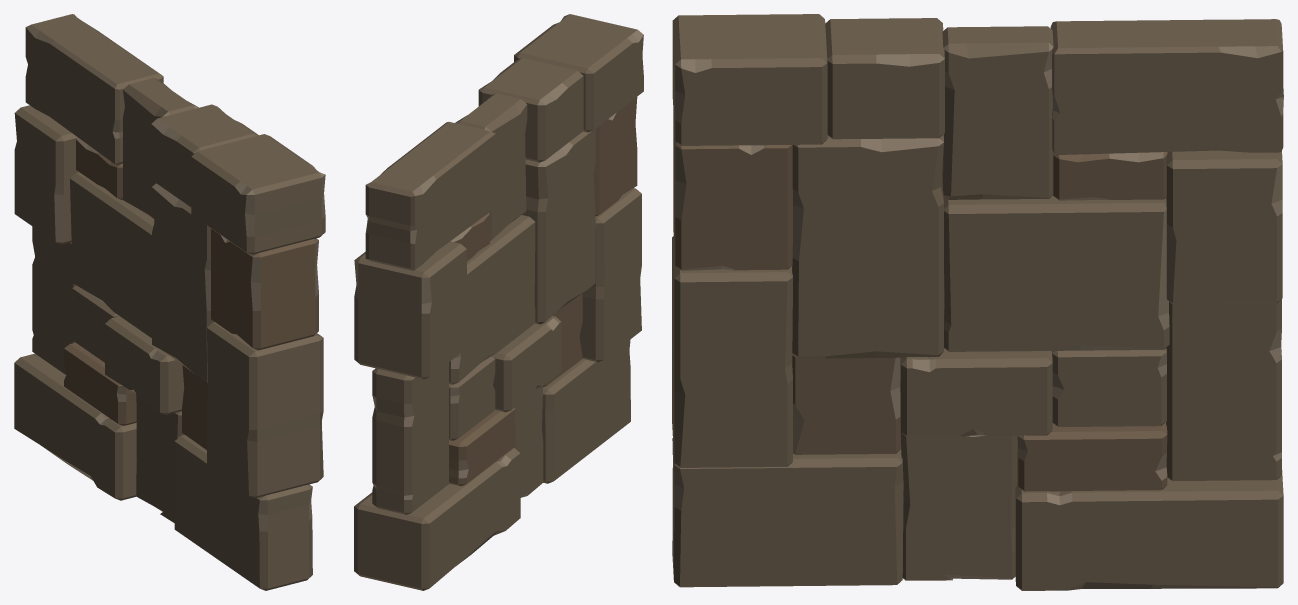
The model's file is plaza_wall_east_1_lev3.glb.
3 renders of one model, left to right at view 1: azimuth 30°, elevation 25°; view 2: azimuth 150°, elevation 25°; view 3: azimuth 270°, elevation 25°, orthographic. The views are drawn at different scales.
Visible parts, largest first — view 1: plaza_wall_east_1_lev3; view 2: plaza_wall_east_1_lev3; view 3: plaza_wall_east_1_lev3.
Boxes of the visible parts, left/top/right/bottom form: plaza_wall_east_1_lev3: left=14, top=14, right=325, bottom=590; plaza_wall_east_1_lev3: left=354, top=14, right=643, bottom=590; plaza_wall_east_1_lev3: left=672, top=14, right=1283, bottom=590.
Bounding box in the file's own units: 1.33 × 5.91 × 6.11.
